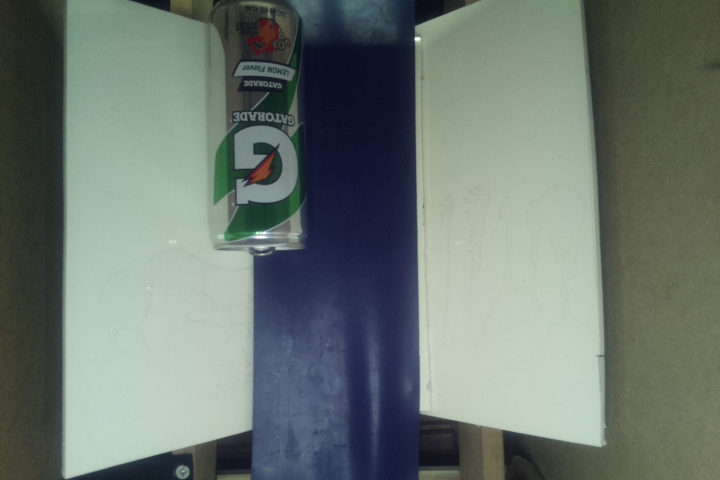can: (208, 1, 306, 258)
